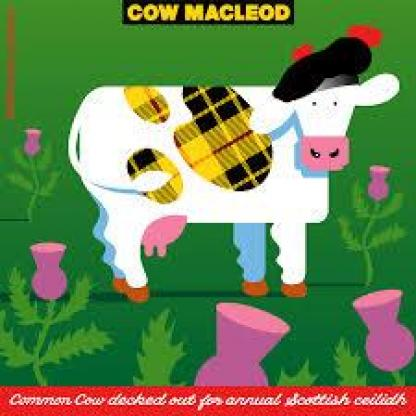cow: (66, 37, 400, 303)
